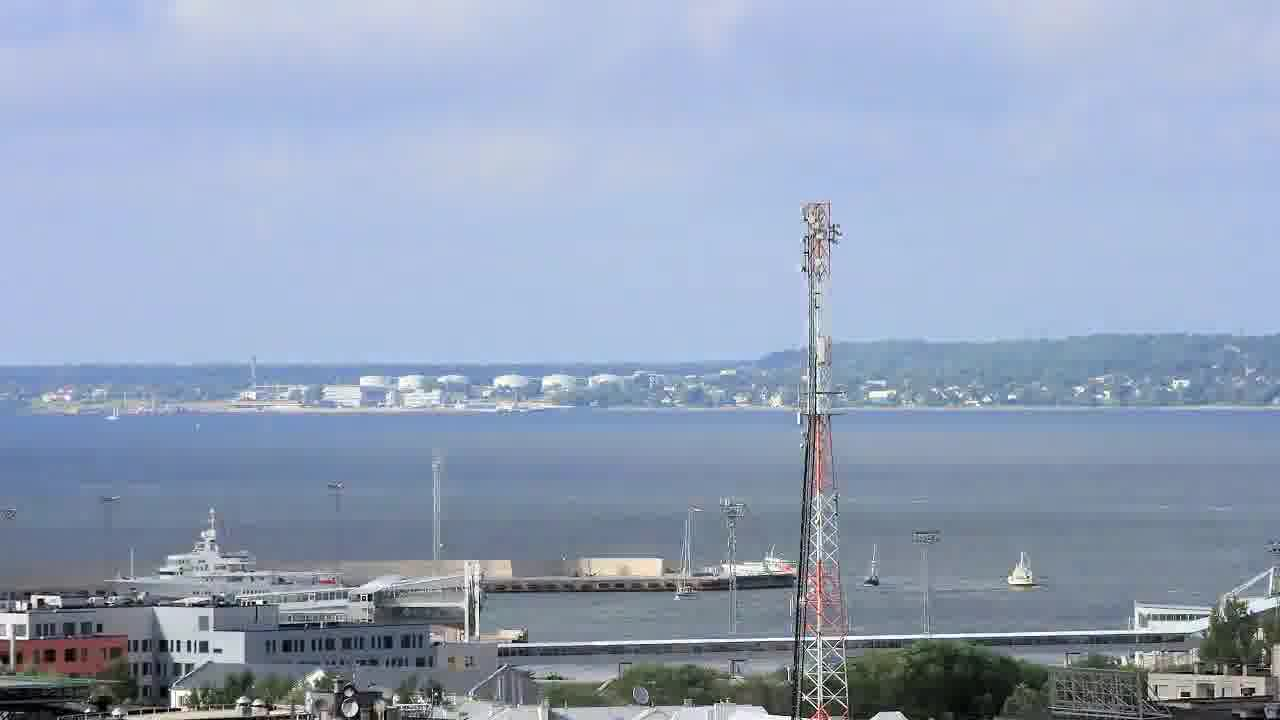type-0: (989, 547, 1051, 597), (654, 549, 703, 612), (851, 548, 895, 600)
type-3: (89, 520, 375, 615)
